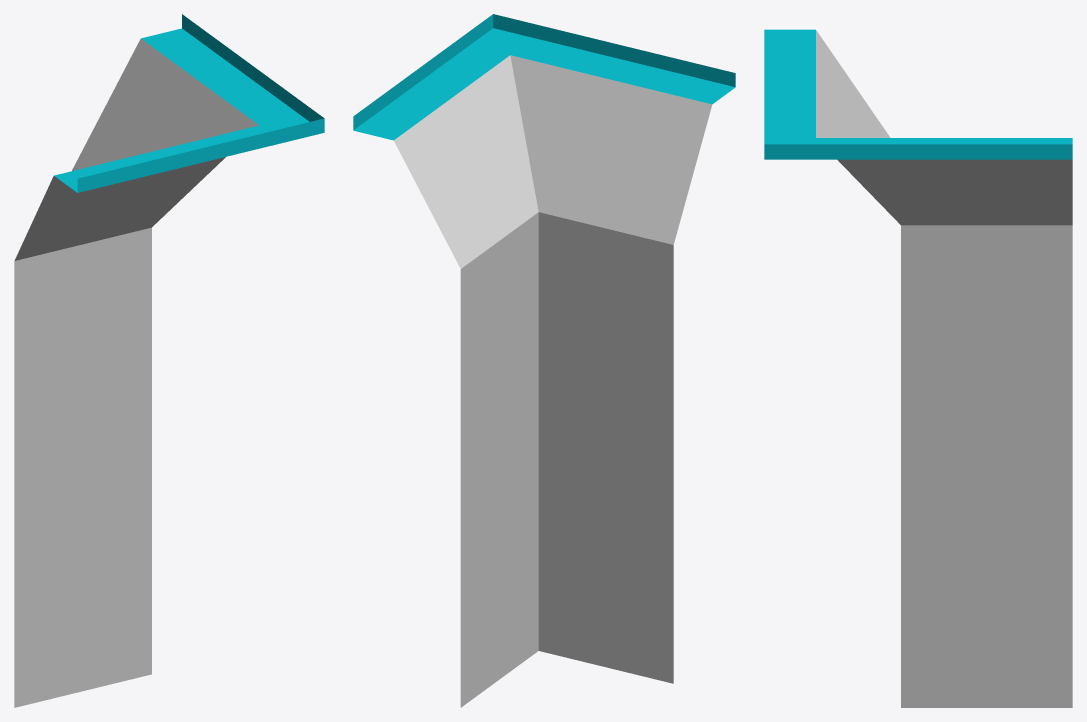
Rendered from Wall_C_Outer.fbx.
3 views of the same model, side by side, from view 1: azimuth 30°, elevation 25°; view 2: azimuth 150°, elevation 25°; view 3: azimuth 270°, elevation 25° (orthographic). The views are drawn at different scales.
Parts seen in each view (by area): view 1: Wall_C_Outer; view 2: Wall_C_Outer; view 3: Wall_C_Outer.
Part boxes in pixels (box(x1,y1,x2,y2)): Wall_C_Outer: box(14, 14, 324, 707); Wall_C_Outer: box(353, 14, 735, 707); Wall_C_Outer: box(764, 29, 1072, 707).
Size of the model in its own units: 1.8 by 4 by 1.8.
